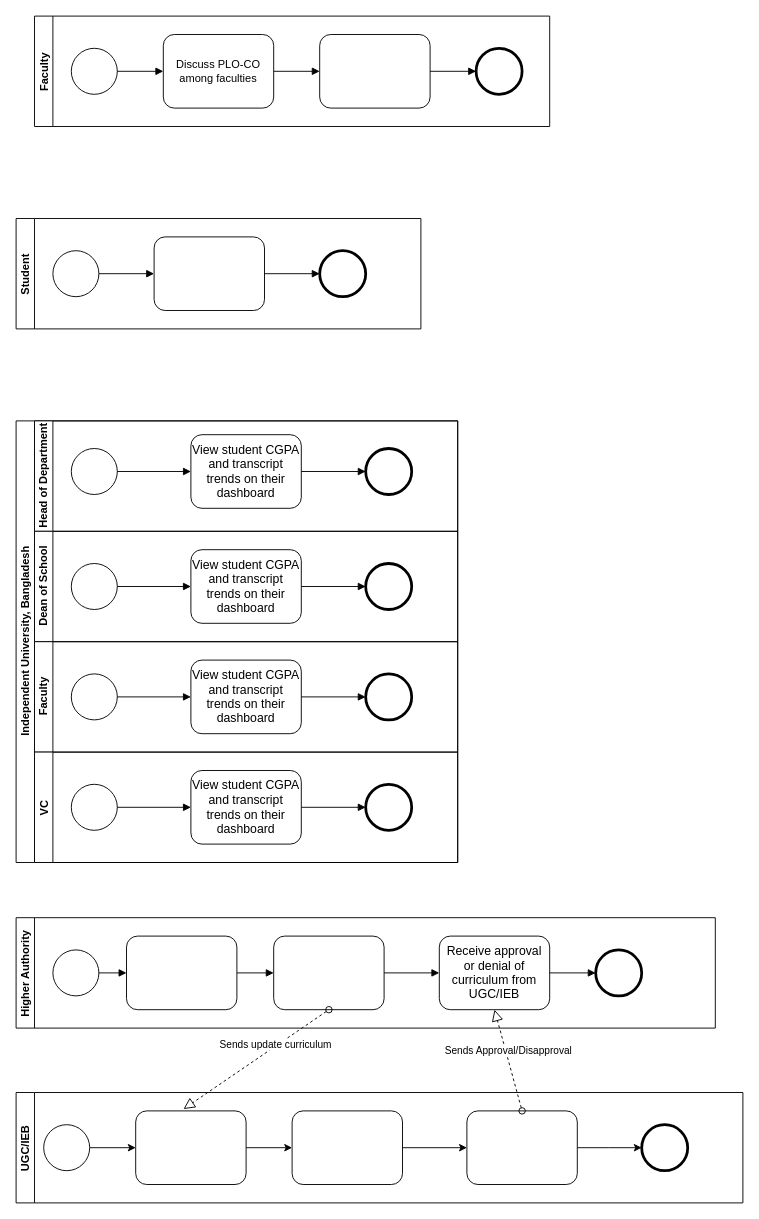
This 759x1219 diagram has some shape labels left out. The shapes that lost their labels are listed below. From the top down, each one's centre as x and y in pixels, then its label:
At pixel 374 71: "Submit PLO-CO mapping in SPM DB".
At pixel 208 273: "View their individual student CGPA and transcript".
At pixel 181 972: "Retrieve updated curriculum from SPM DB".
At pixel 328 972: "Sends update curriculum to UGC/IEB".
At pixel 190 1147: "Receive updated curriculum from Higher Authority".
At pixel 346 1147: "Analyze the curriculum".
At pixel 521 1147: "Send approval or disapproval to higher authority".
